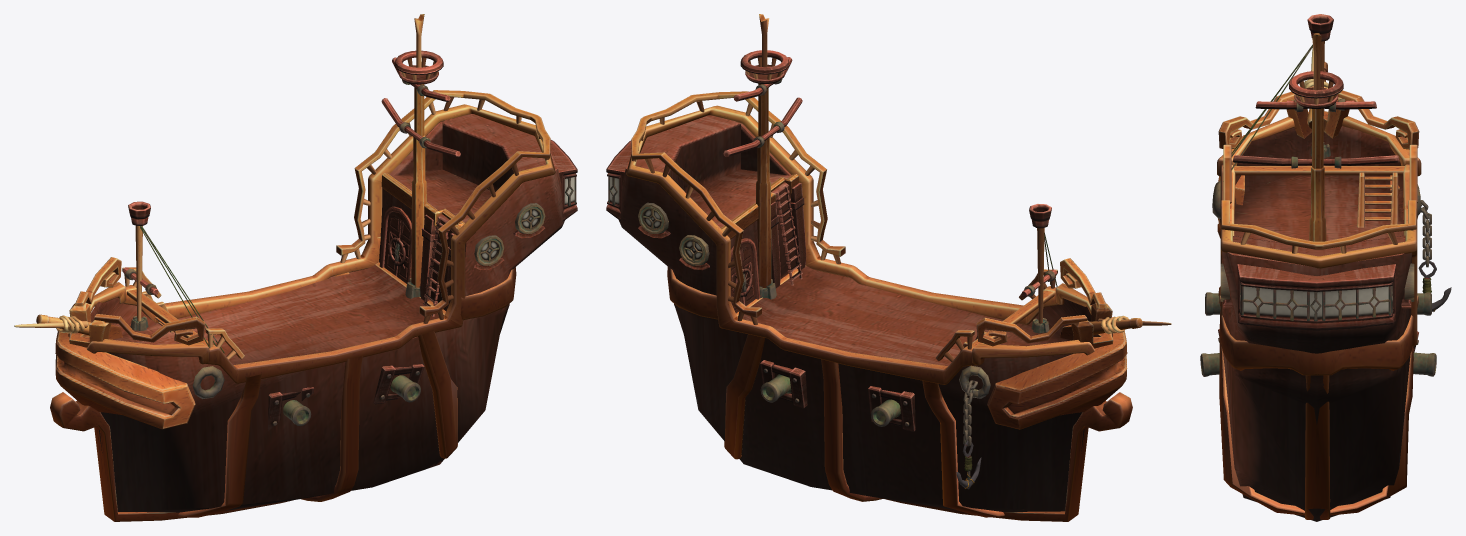
Rendered from SM_Boatv6.fbx.
The picture shows the model from 3 angles, left to right: view 1: azimuth 30°, elevation 25°; view 2: azimuth 150°, elevation 25°; view 3: azimuth 270°, elevation 25°; orthographic projection. The views are drawn at different scales.
Visible parts, largest first — view 1: Core, FrameWork, Railing_1, Mast_4, Mast_1, Bow, canon_3, Railing_5, canon_4, WindowBack, Mast_2, Railing_4 (+9 smaller); view 2: Core, FrameWork, Railing_1, Mast_4, Mast_1, Bow, canon_1, canon_2, Railing_4, WindowBack, Mast_2, Ladder_1 (+7 smaller); view 3: Core, FrameWork, WindowBack, Mast_1, Railing_1, Mast_4, Plank_1, Stairs, Bow, Railing_4, Railing_5, Mast_2 (+10 smaller).
Boxes of the visible parts, bbox=[...] form: Core: bbox=[90, 114, 564, 512]; FrameWork: bbox=[50, 104, 555, 521]; Railing_1: bbox=[336, 90, 550, 323]; Mast_4: bbox=[411, 14, 426, 287]; Mast_1: bbox=[381, 50, 460, 298]; Bow: bbox=[14, 302, 111, 347]; canon_3: bbox=[373, 364, 424, 404]; Railing_5: bbox=[94, 314, 205, 345]; canon_4: bbox=[268, 387, 314, 430]; WindowBack: bbox=[550, 140, 577, 221]; Mast_2: bbox=[123, 201, 158, 330]; Railing_4: bbox=[75, 257, 121, 306]; Core: bbox=[619, 115, 1091, 511]; FrameWork: bbox=[626, 105, 1132, 521]; Railing_1: bbox=[631, 91, 845, 324]; Mast_4: bbox=[756, 14, 771, 287]; Mast_1: bbox=[723, 50, 802, 299]; Bow: bbox=[1071, 303, 1171, 348]; canon_1: bbox=[760, 360, 807, 408]; canon_2: bbox=[868, 386, 915, 431]; Railing_4: bbox=[976, 315, 1087, 346]; WindowBack: bbox=[606, 140, 631, 220]; Mast_2: bbox=[1021, 204, 1057, 333]; Ladder_1: bbox=[776, 186, 802, 285]; Core: bbox=[1222, 126, 1411, 521]; FrameWork: bbox=[1217, 111, 1421, 519]; WindowBack: bbox=[1237, 264, 1395, 330]; Mast_1: bbox=[1233, 71, 1399, 168]; Railing_1: bbox=[1219, 200, 1418, 307]; Mast_4: bbox=[1309, 33, 1326, 241]; Plank_1: bbox=[1233, 166, 1404, 175]; Stairs: bbox=[1357, 172, 1398, 227]; Bow: bbox=[1286, 47, 1349, 138]; Railing_4: bbox=[1338, 90, 1419, 149]; Railing_5: bbox=[1218, 91, 1294, 148]; Mast_2: bbox=[1286, 14, 1354, 158].
Bounding box in the file's own units: 3244 × 1166 × 2593.
